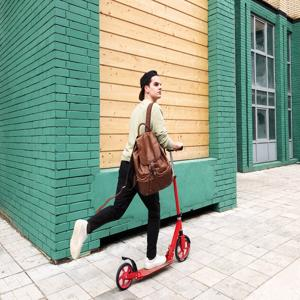human on a scooter: (69, 70, 191, 291)
